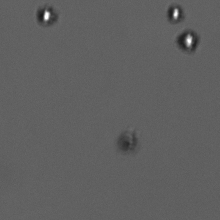Dead Cell: (115, 131, 141, 154)
Living Cell: (176, 28, 200, 54), (36, 5, 58, 27), (166, 4, 185, 24)
